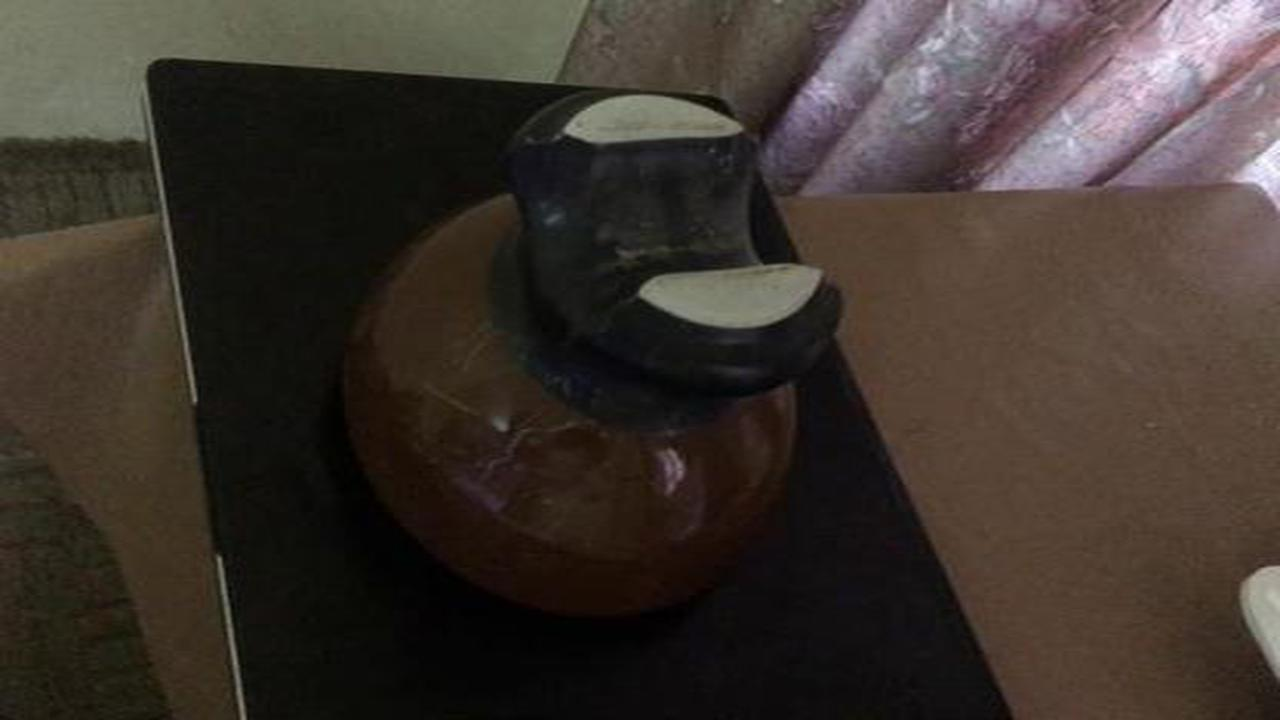insulator_pin: (311, 71, 874, 643)
